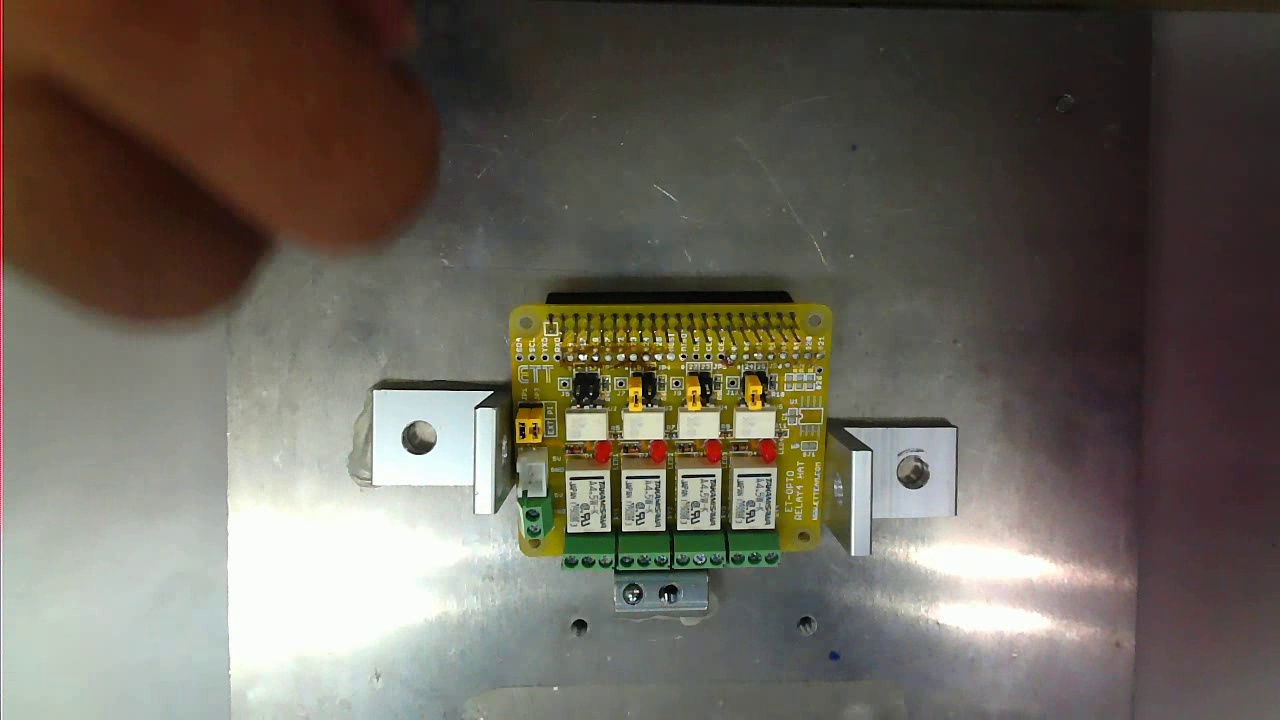can: (493, 295, 837, 574)
